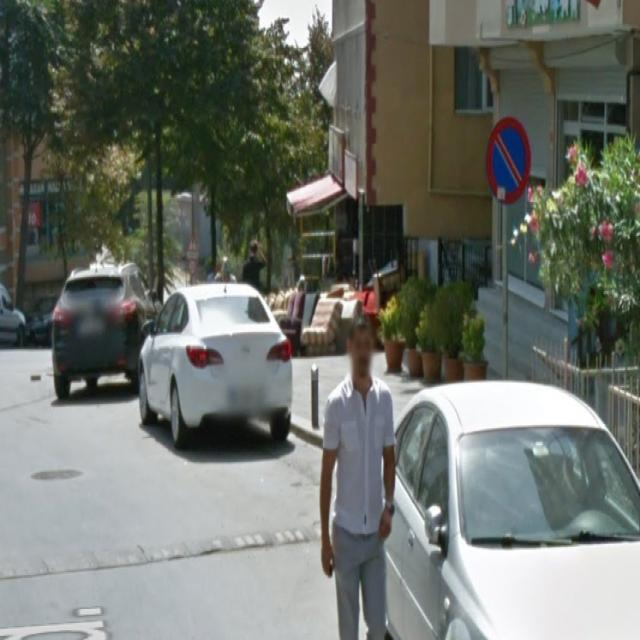parkyasak: (487, 119, 531, 204)
